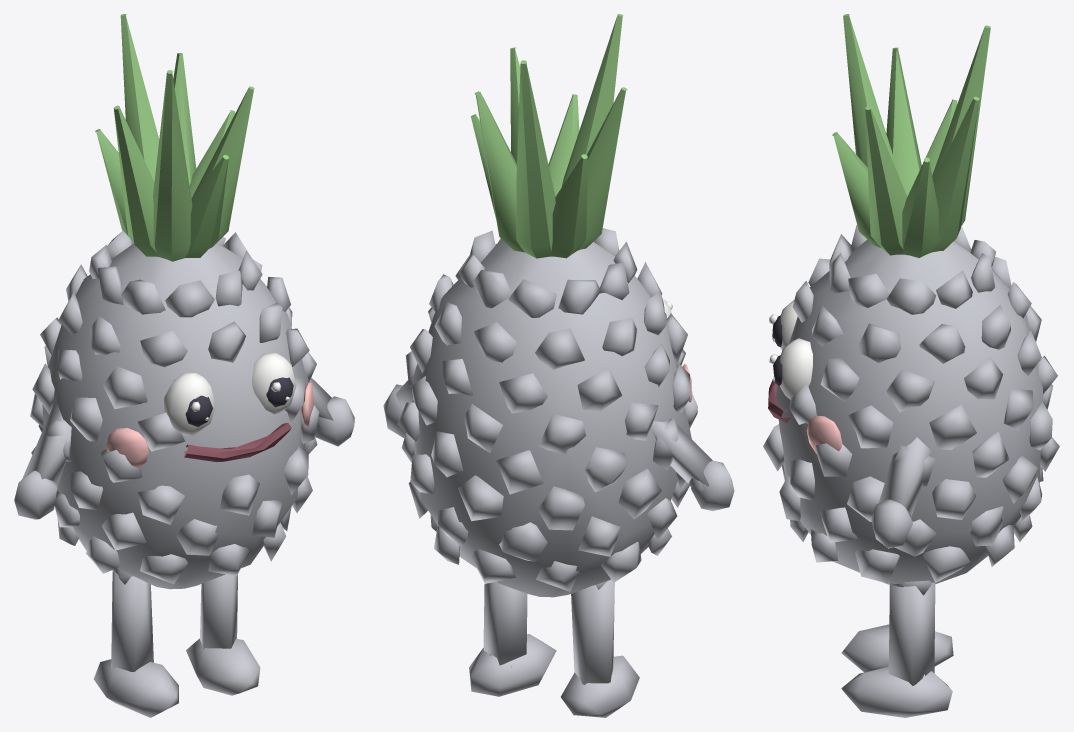
Rendered from Pineapple.fbx.
The picture shows the model from 3 angles, left to right: view 1: azimuth 30°, elevation 25°; view 2: azimuth 150°, elevation 25°; view 3: azimuth 270°, elevation 25°; orthographic projection. The views are drawn at different scales.
Parts seen in each view (by area): view 1: EX_Pineapple; view 2: EX_Pineapple; view 3: EX_Pineapple.
Part boxes in pixels (x1,y1,x2,y2): EX_Pineapple: (14,14,354,717); EX_Pineapple: (383,14,734,717); EX_Pineapple: (763,14,1059,717).
Size of the model in its own units: 136 by 250 by 102.
